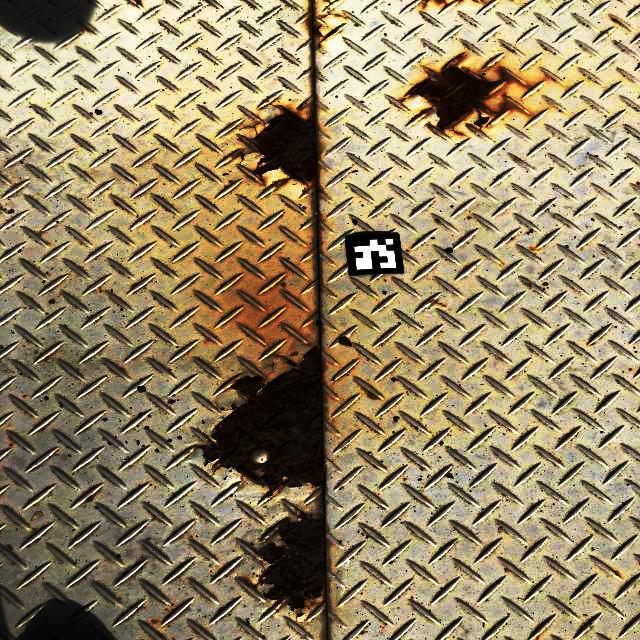Corrosion: (193, 344, 324, 500), (405, 54, 524, 137), (256, 510, 326, 611), (230, 108, 316, 190), (307, 0, 339, 49), (238, 122, 261, 135), (431, 0, 450, 7), (294, 612, 307, 621), (423, 0, 431, 9), (295, 103, 304, 109), (614, 571, 620, 576)
